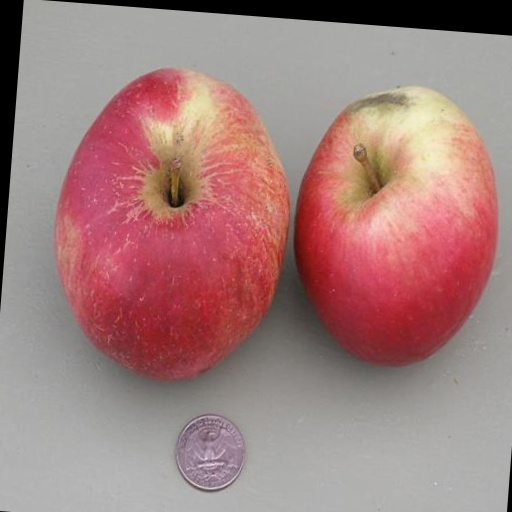fruit: (54, 69, 289, 379), (294, 87, 496, 364)
